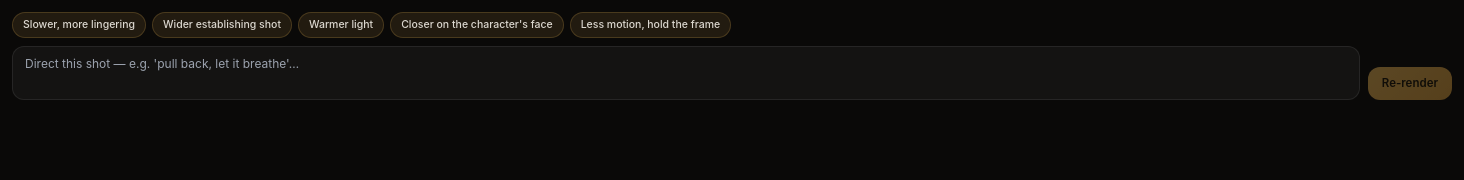
Test: RegionCommentBar › POSTs the note via director.comment (the REST regen endpoint) and shows routing
Type "slower please" into the text box with placeholder "Direct this shot — e.g. 'pull back, let it breathe'…" at (686, 73), box x1=12 y1=46 x2=1360 y2=100
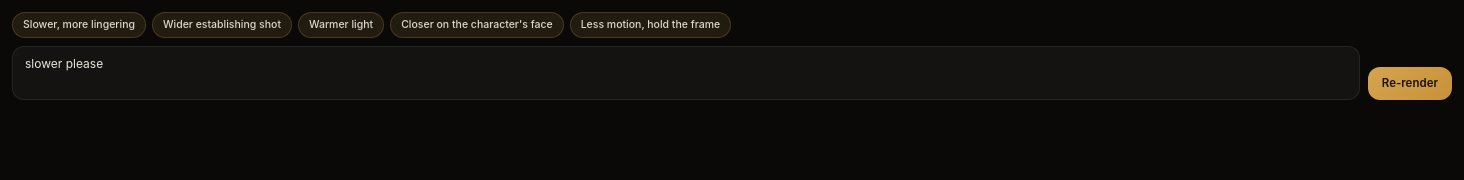
Click the button "Re-render" at (1410, 83), box x1=1368 y1=66 x2=1452 y2=100
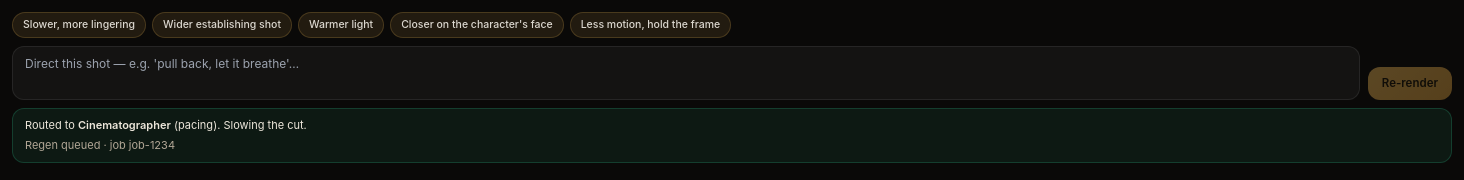
Expected: the text "Cinematographer" is shown, x1=78 y1=118 x2=171 y2=132
Expected: the text "Regen queued · job job-1234" is shown, x1=25 y1=138 x2=175 y2=152
